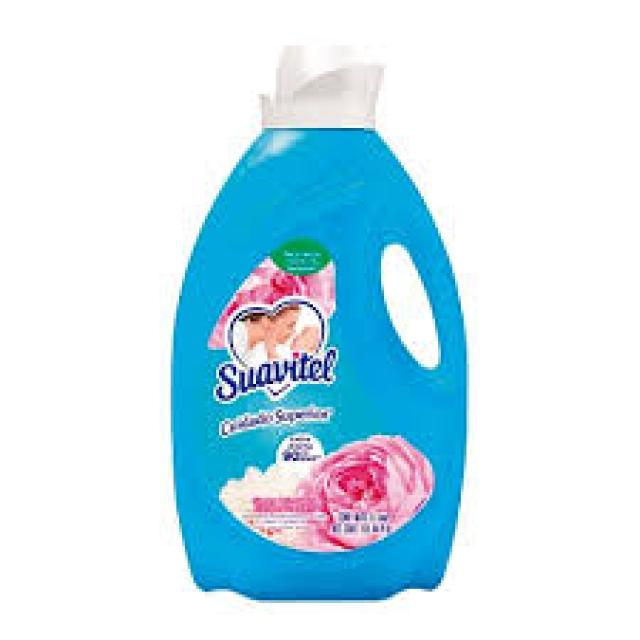Botella: (129, 31, 468, 606)
